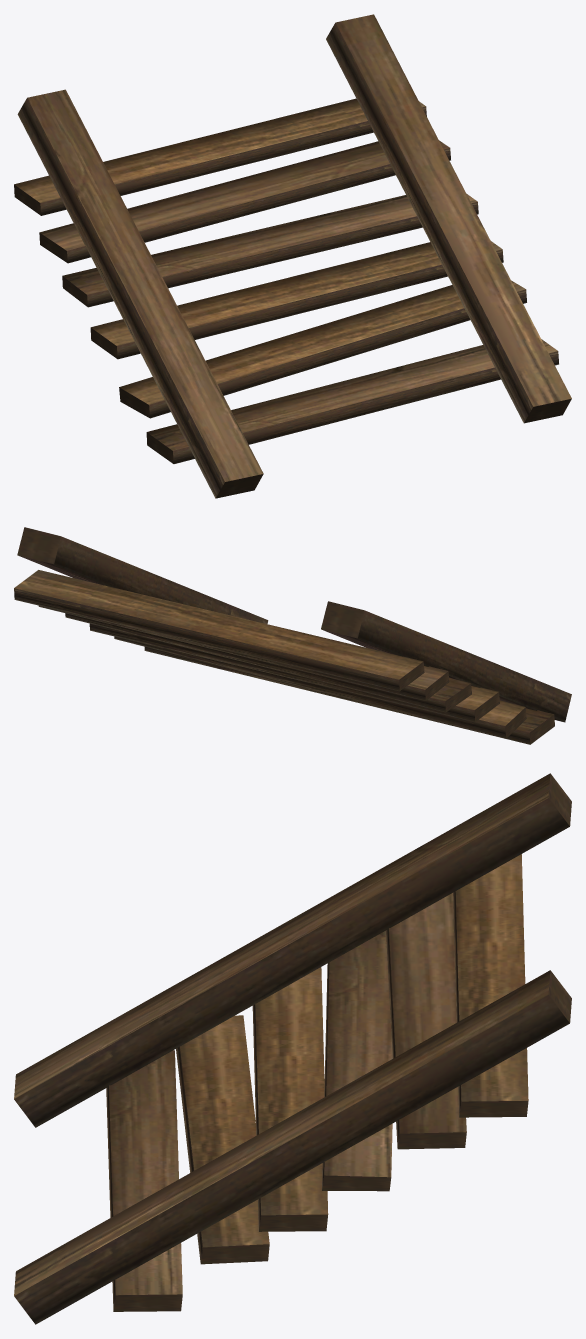
The model's file is C5_Board_3.FBX.
The picture shows the model from 3 angles, top to bottom: view 1: azimuth 30°, elevation 25°; view 2: azimuth 150°, elevation 25°; view 3: azimuth 270°, elevation 25°; orthographic projection. The views are drawn at different scales.
Parts seen in each view (by area): view 1: C5_board_3; view 2: C5_board_3; view 3: C5_board_3.
Part boxes in pixels (x1,y1,x2,y2): C5_board_3: (14, 14, 571, 498); C5_board_3: (14, 527, 571, 744); C5_board_3: (14, 773, 571, 1324).
Size of the model in its own units: 321 by 201 by 303.
